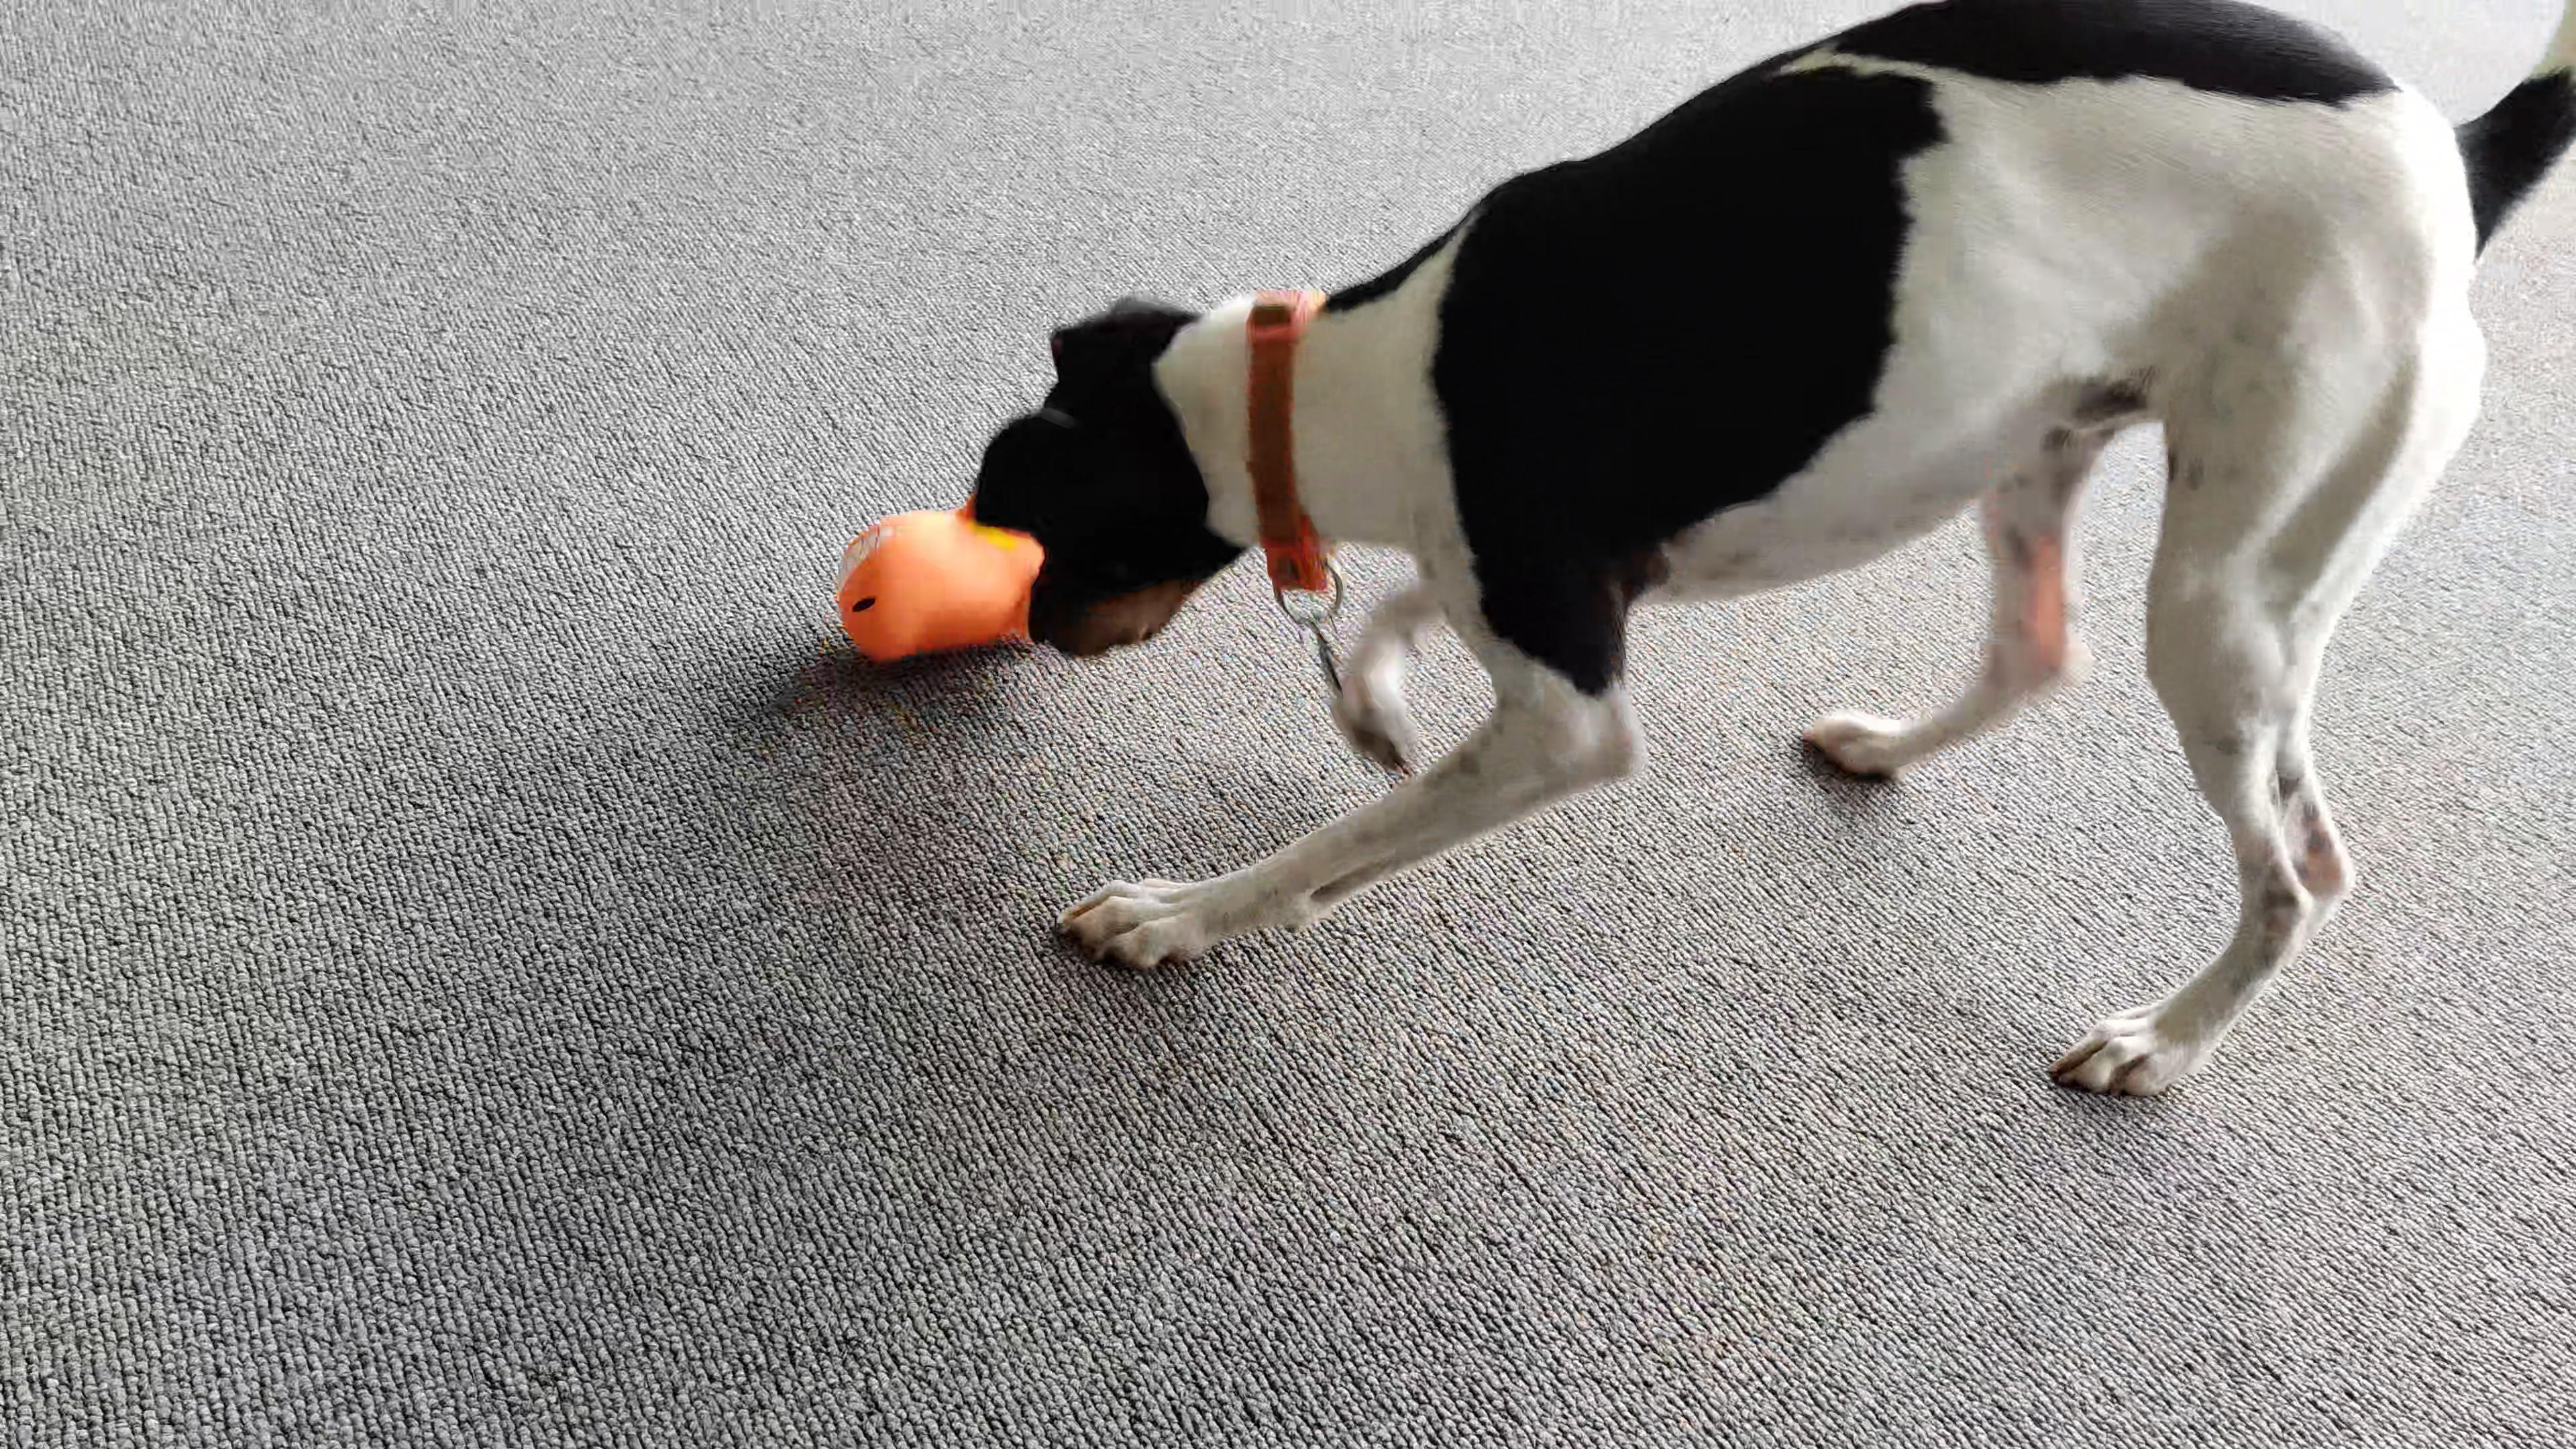Dog: (961, 0, 2576, 1102)
